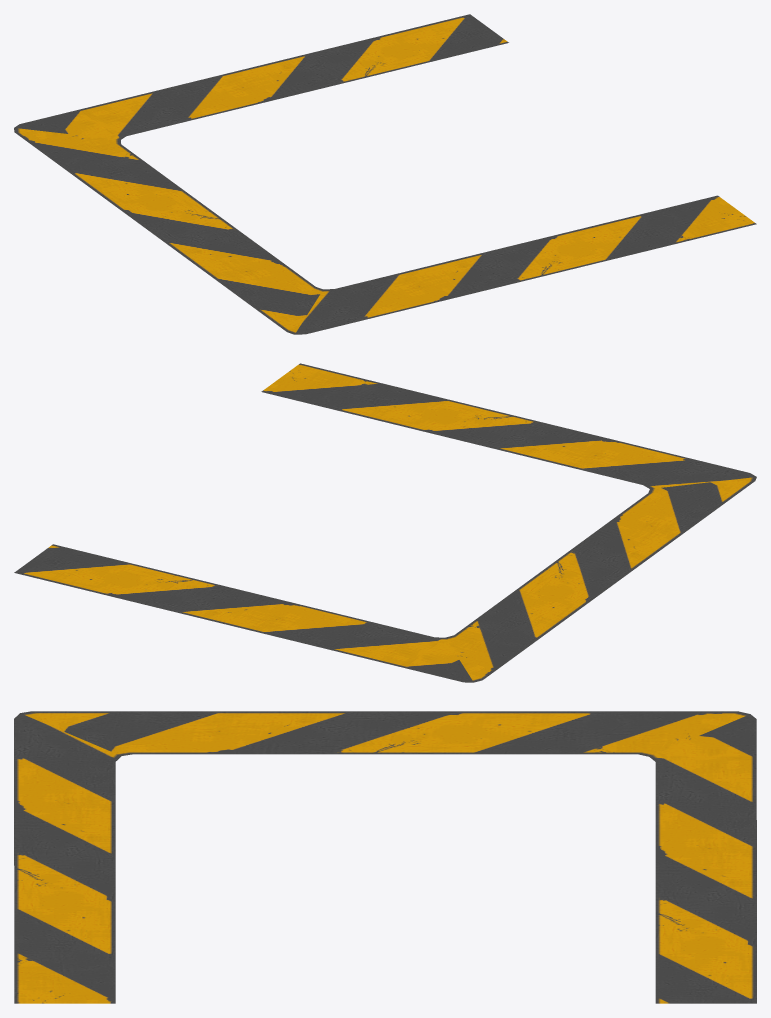
The model's file is SM_FloorDecal_RecWarn1X1.FBX.
3 views of the same model, one above another, from view 1: azimuth 30°, elevation 25°; view 2: azimuth 150°, elevation 25°; view 3: azimuth 270°, elevation 25° (orthographic). The views are drawn at different scales.
Visible parts, largest first — view 1: SM_FloorDecal_RecWarn1X1; view 2: SM_FloorDecal_RecWarn1X1; view 3: SM_FloorDecal_RecWarn1X1.
Part boxes in pixels (x1,y1,x2,y2): SM_FloorDecal_RecWarn1X1: [14, 14, 756, 334]; SM_FloorDecal_RecWarn1X1: [14, 363, 756, 682]; SM_FloorDecal_RecWarn1X1: [14, 711, 756, 1003].
Bounding box in the file's own units: 108 × 116 × 0.
